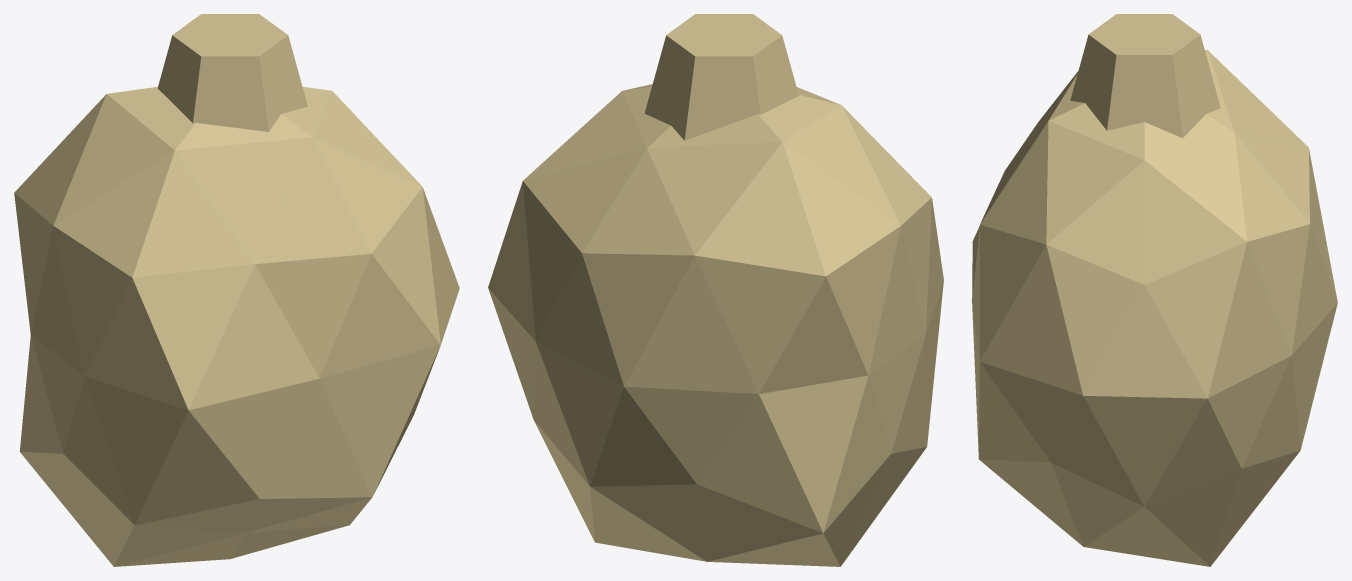
File: sack_2.glb
3 renders of one model, left to right at view 1: azimuth 30°, elevation 25°; view 2: azimuth 150°, elevation 25°; view 3: azimuth 270°, elevation 25°, orthographic. The views are drawn at different scales.
Parts seen in each view (by area): view 1: sack_2; view 2: sack_2; view 3: sack_2.
Boxes of the visible parts, x1,y1,x2,y2 form: sack_2: (14, 14, 459, 566); sack_2: (488, 14, 943, 566); sack_2: (972, 14, 1337, 566).
Size of what is drawn, in the model's own units: 0.5297 by 0.6971 by 0.4571.
